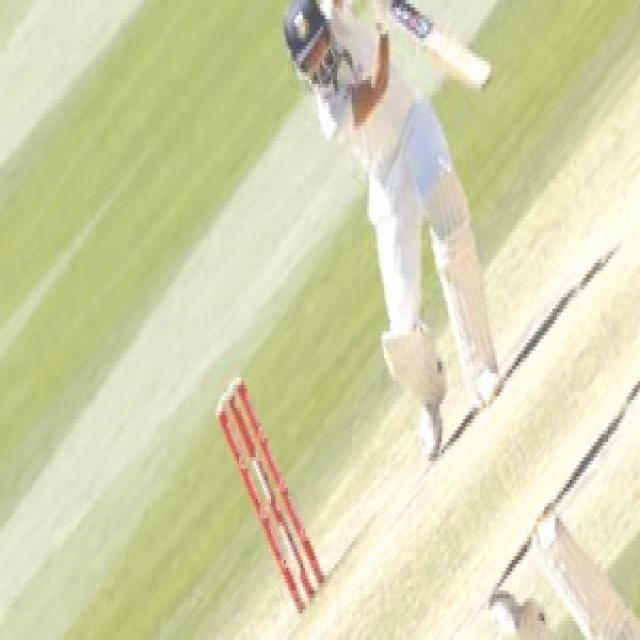toe: (455, 42, 495, 96)
